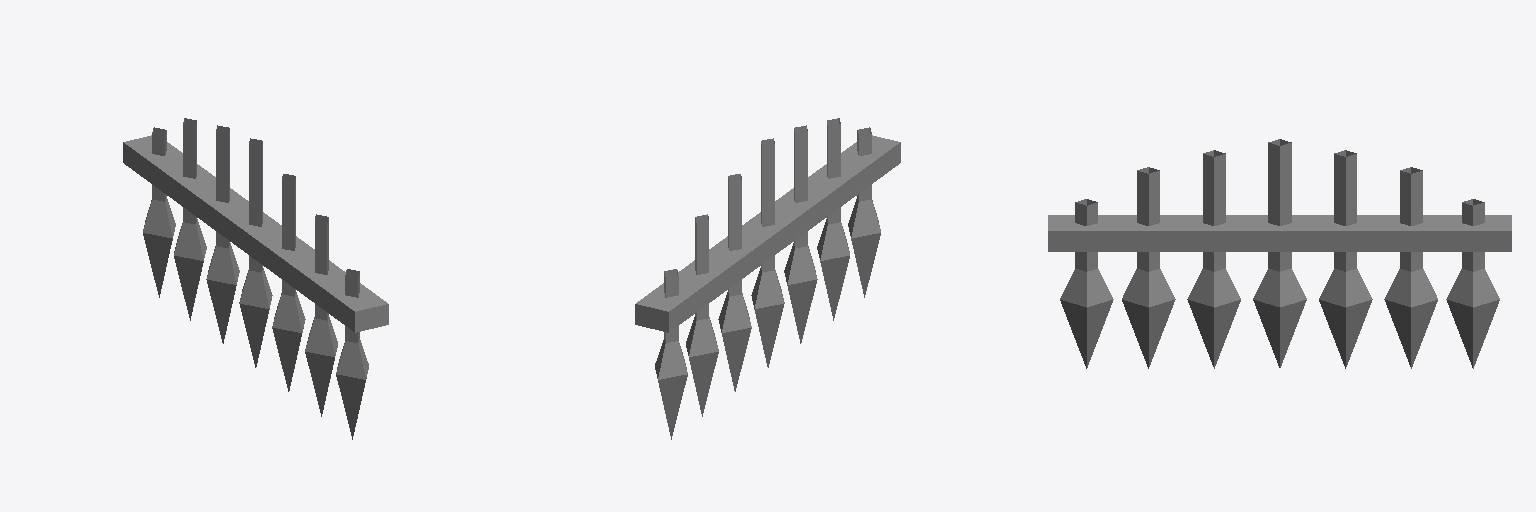
The model's file is Portcullis_Short.obj.
The picture shows the model from 3 angles: view 1: azimuth 30°, elevation 25°; view 2: azimuth 150°, elevation 25°; view 3: azimuth 270°, elevation 25°; orthographic projection.
Visible parts, largest first — view 1: Palette; view 2: Palette; view 3: Palette.
Boxes of the visible parts, x1=… form: Palette: x1=123, y1=118, x2=388, y2=439; Palette: x1=635, y1=118, x2=900, y2=439; Palette: x1=1048, y1=139, x2=1511, y2=368.
Bounding box in the file's own units: 0.25 × 1.62 × 3.